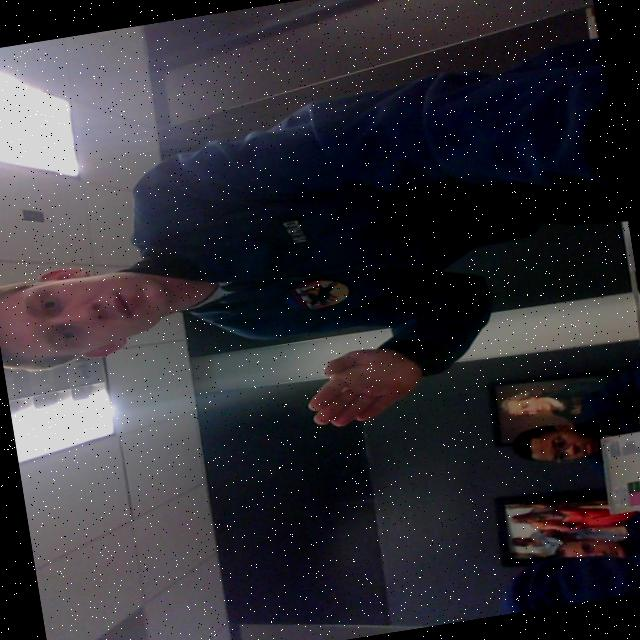paper: (290, 332, 434, 436)
